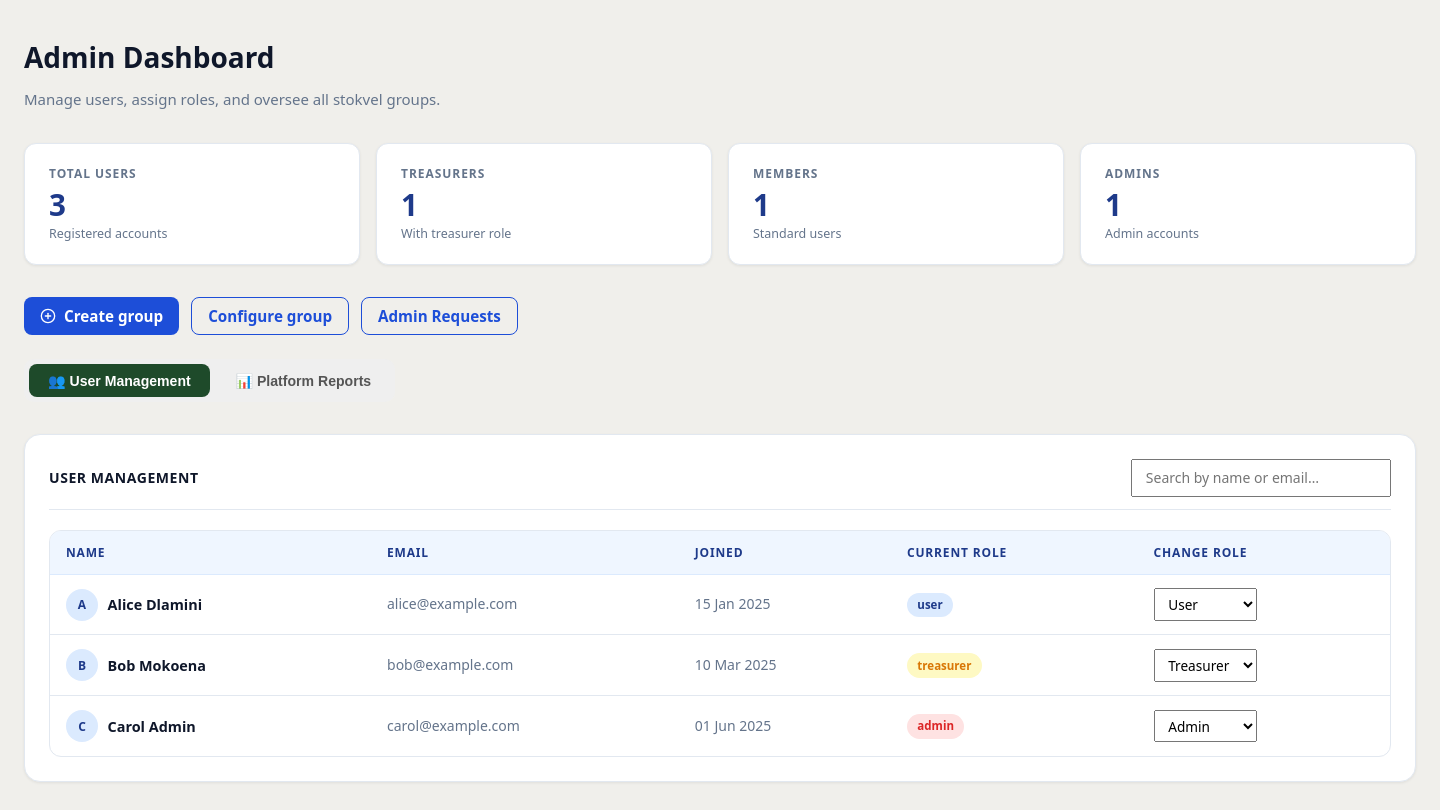
Test: AdminPage › filters users by search input
Expected: the text "Alice Dlamini" is shown, [108, 595, 202, 614]
Type "Bob" into the field with placeholder "Search by name or email…" at (1261,478), box [1131, 459, 1391, 496]
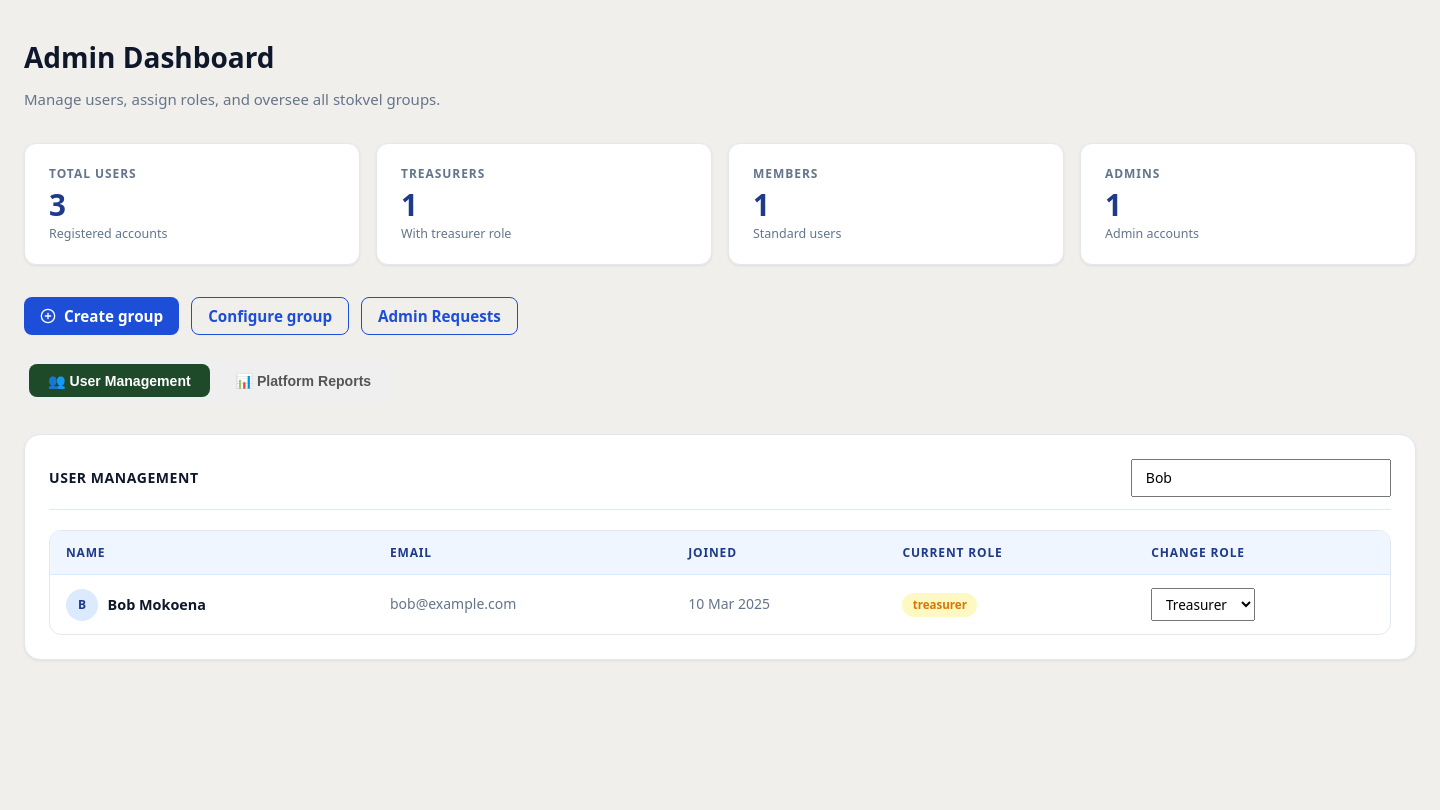
Expected: the text "Bob Mokoena" is shown, [108, 595, 206, 614]
Expected: the text "Alice Dlamini" is gone
